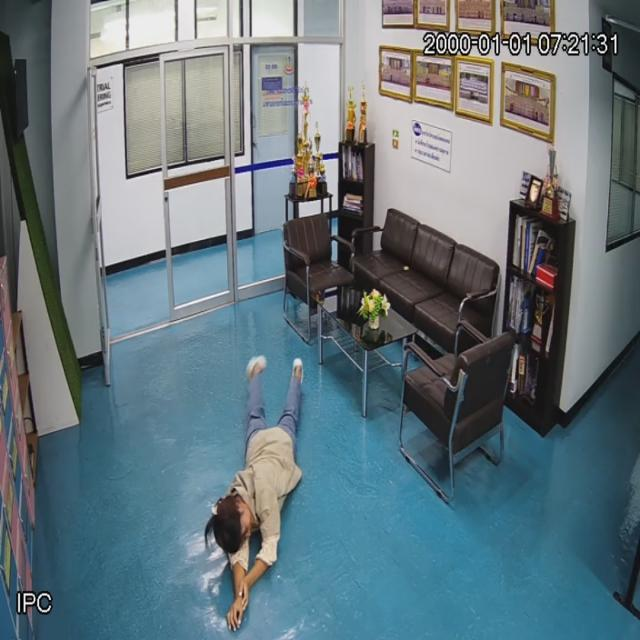fall: (212, 343, 308, 624)
